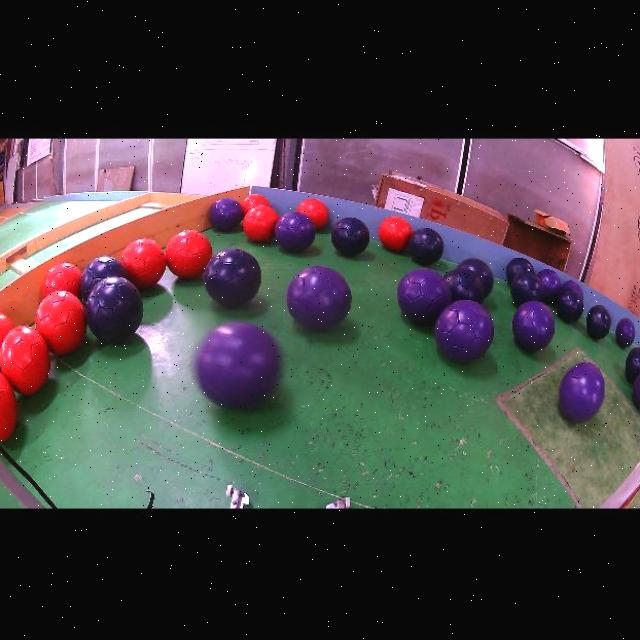B: (85, 277, 143, 343), (204, 248, 262, 307), (80, 255, 128, 300), (331, 216, 370, 255), (408, 226, 444, 264), (458, 257, 493, 296), (444, 268, 484, 302), (510, 271, 545, 305), (556, 287, 583, 322), (586, 305, 611, 338), (506, 257, 534, 284), (626, 346, 640, 383)
P: (196, 322, 280, 408), (287, 265, 352, 329), (434, 298, 494, 361), (397, 268, 452, 324), (559, 361, 605, 422), (512, 300, 555, 350), (274, 211, 316, 252), (209, 197, 244, 230), (537, 269, 561, 302), (615, 316, 636, 347), (632, 372, 640, 409)
R: (0, 325, 51, 395), (35, 289, 87, 355), (165, 229, 213, 278), (121, 238, 166, 289), (42, 261, 82, 296), (242, 205, 280, 241), (0, 371, 17, 441), (379, 216, 412, 251), (296, 198, 328, 228), (240, 193, 271, 214), (0, 311, 13, 348)
